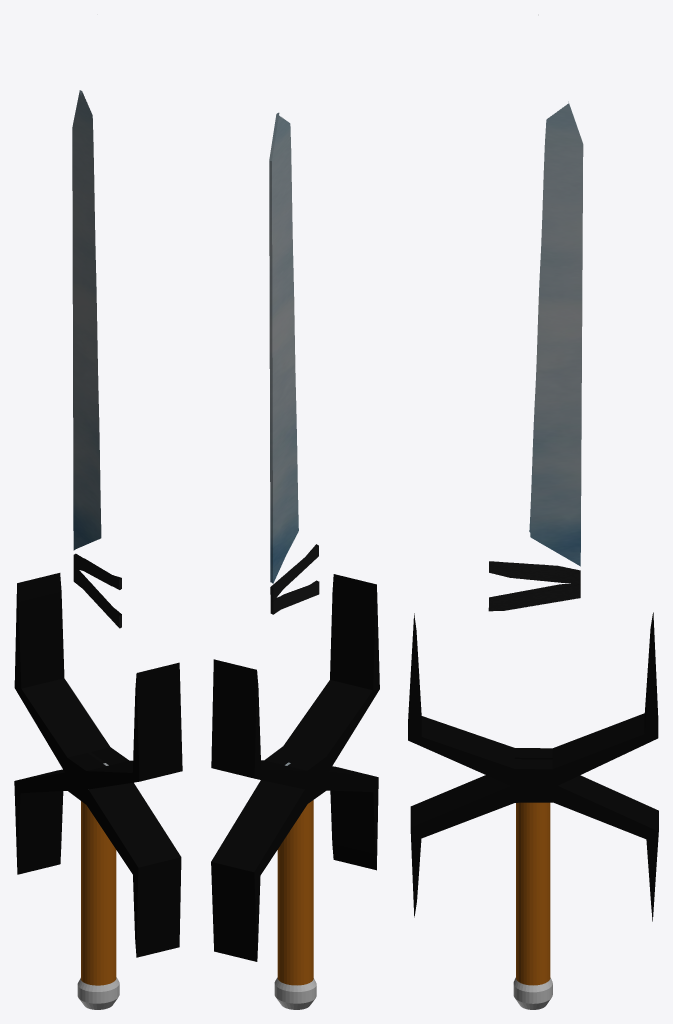
Rendered from Espada.fbx.
3 views of the same model, side by side, from view 1: azimuth 30°, elevation 25°; view 2: azimuth 150°, elevation 25°; view 3: azimuth 270°, elevation 25° (orthographic).
Visible parts, largest first — view 1: Cilindro; view 2: Cilindro; view 3: Cilindro.
Boxes of the visible parts, x1,y1,x2,y2 form: Cilindro: [14, 90, 182, 1009]; Cilindro: [211, 112, 379, 1009]; Cilindro: [408, 101, 658, 1009].
Bounding box in the file's own units: 7.52 × 165 × 37.84.
